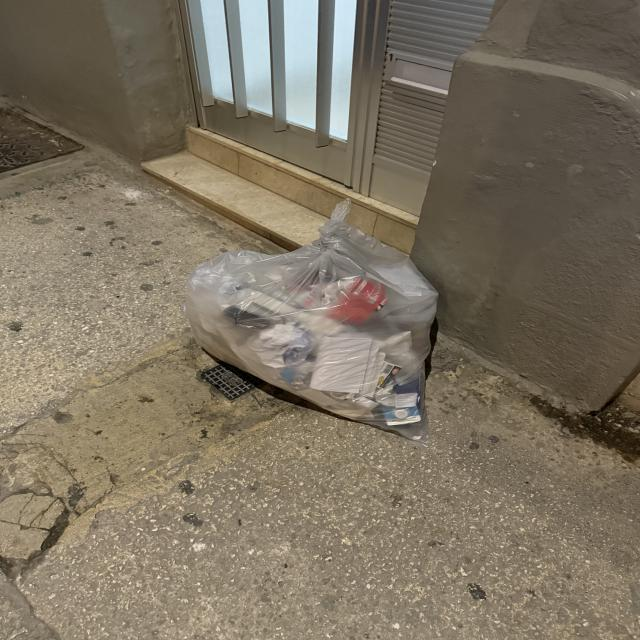Recyclable Material -Grey Bags-: (186, 201, 438, 443)
